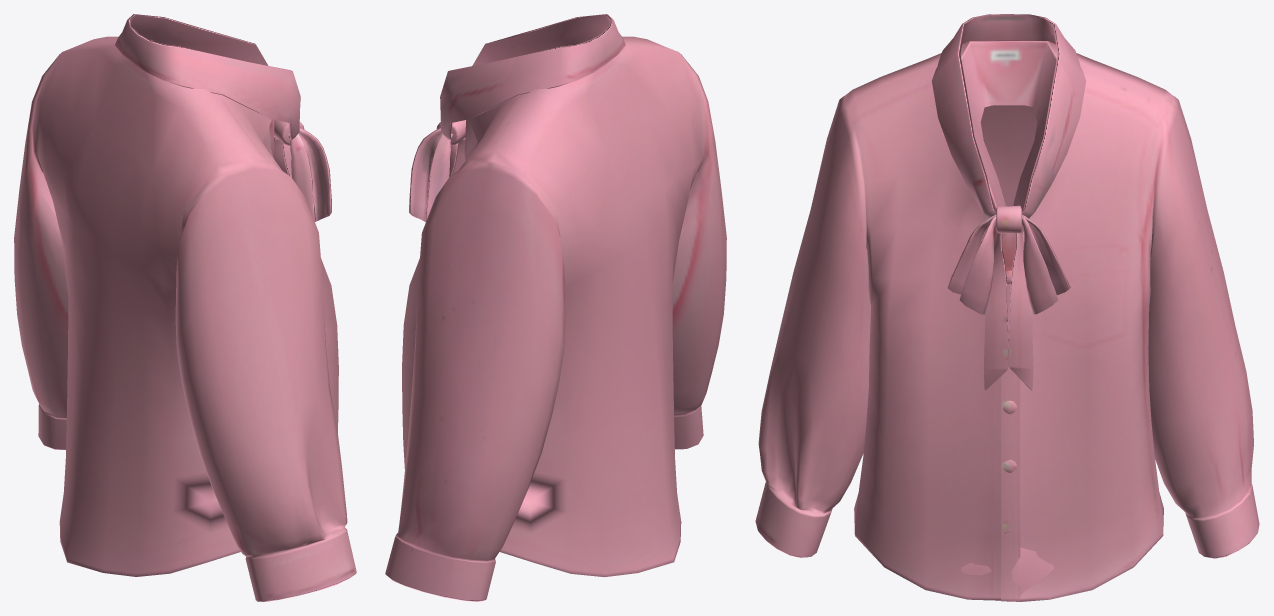
File: camisa_social_rosa_manga_longa.glb
3 renders of one model, left to right at view 1: azimuth 30°, elevation 25°; view 2: azimuth 150°, elevation 25°; view 3: azimuth 270°, elevation 25°, orthographic.
Parts seen in each view (by area): view 1: camisa_social_rosa_manga_longa; view 2: camisa_social_rosa_manga_longa; view 3: camisa_social_rosa_manga_longa.
Boxes of the visible parts, bbox=[...] form: camisa_social_rosa_manga_longa: bbox=[14, 14, 356, 601]; camisa_social_rosa_manga_longa: bbox=[385, 14, 726, 601]; camisa_social_rosa_manga_longa: bbox=[755, 14, 1259, 601].
Size of the model in its own units: 0.1792 by 0.3579 by 0.3169.
Materials: 1 (1 with a texture image).
